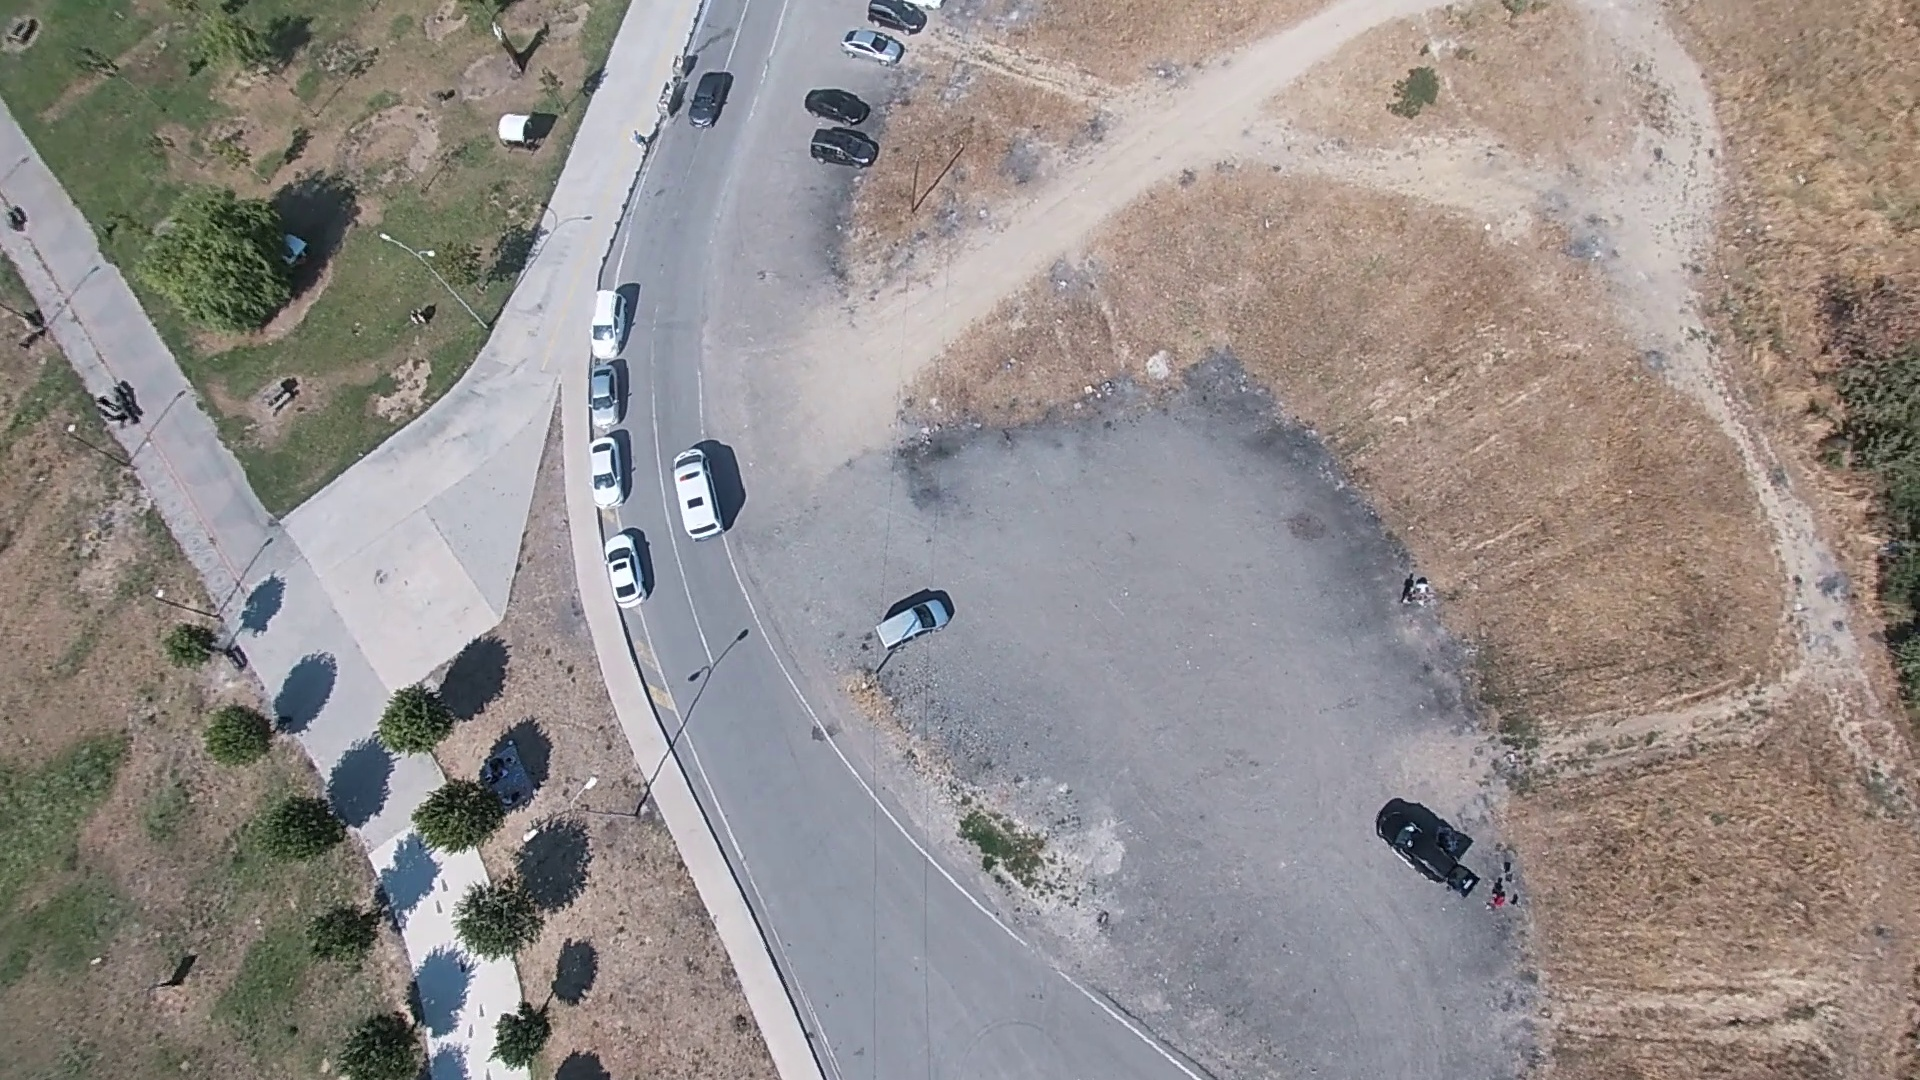arac: (667, 439, 737, 548), (866, 590, 951, 658), (604, 526, 656, 609), (835, 24, 898, 63)
insan: (263, 376, 298, 415), (1395, 574, 1434, 608), (276, 230, 306, 271)
